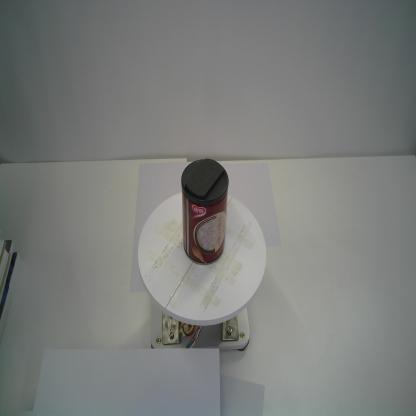Canned Food: (179, 158, 230, 265)
